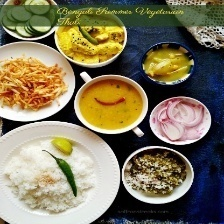rice: (3, 144, 97, 215)
